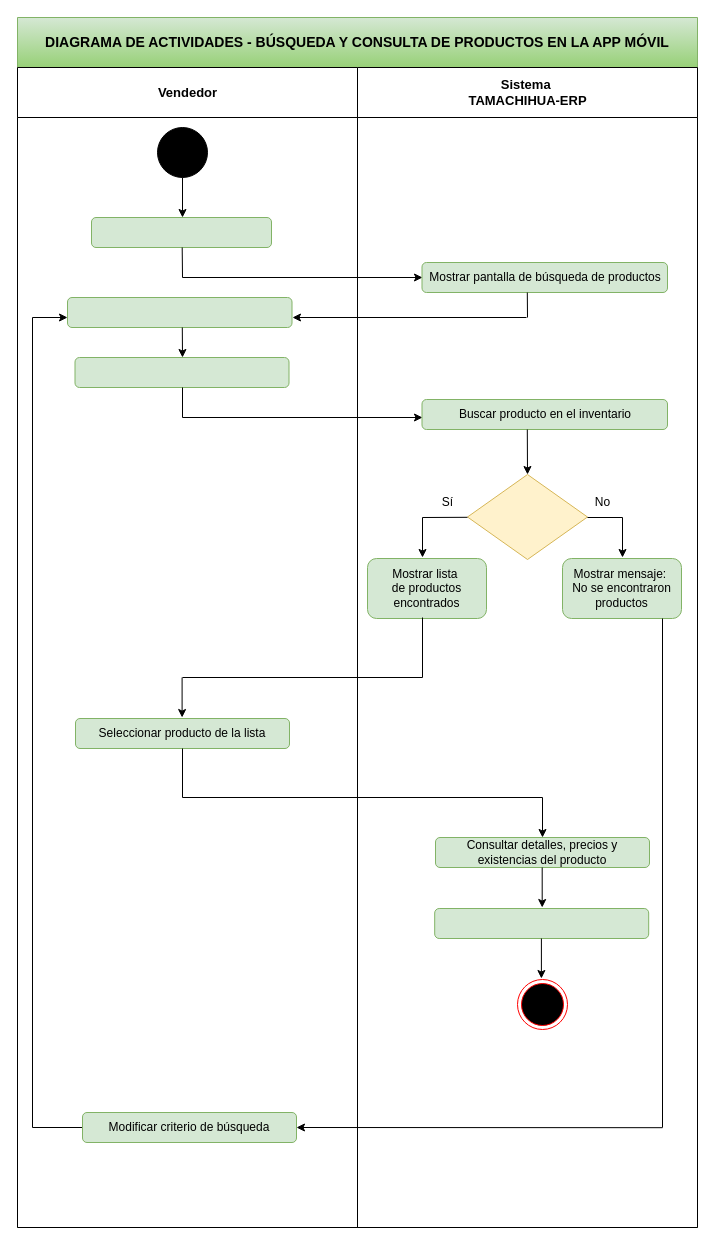
Image size: 715x1245. Some labels were removed from this diagram. Here are the shapes that lost their labels. From the top down, the centre of each, then its label:
At pixel 181 232: "Abrir aplicación móvil".
At pixel 179 312: "Ingresar nombre o código de producto".
At pixel 181 372: "Ejecutar búsqueda".
At pixel 527 517: "¿Se encontraron productos?".
At pixel 541 923: "Mostrar información detallada del producto".
